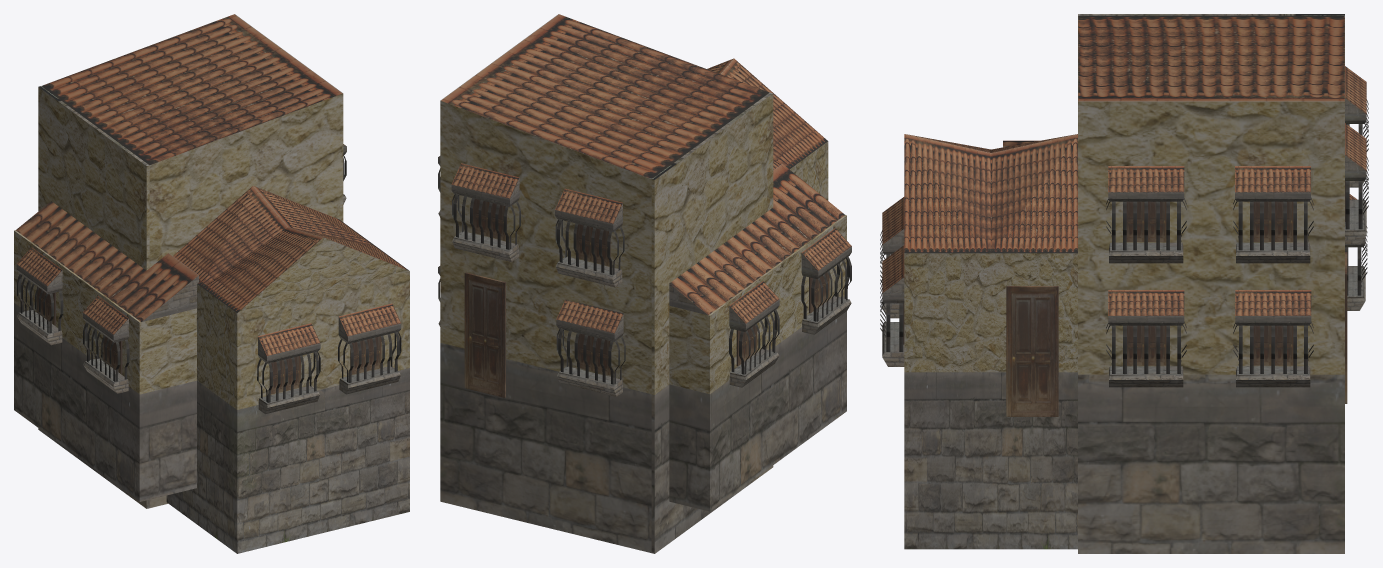
File: house_c.dae
3 views of the same model, side by side, from view 1: azimuth 30°, elevation 25°; view 2: azimuth 150°, elevation 25°; view 3: azimuth 270°, elevation 25° (orthographic). The views are drawn at different scales.
Visible parts, largest first — view 1: CasaC; view 2: CasaC; view 3: CasaC.
Part boxes in pixels (x1,y1,x2,y2): CasaC: (14, 14, 409, 553); CasaC: (438, 14, 851, 553); CasaC: (880, 14, 1368, 553).
Size of the model in its own units: 14.27 by 18.32 by 18.73.
